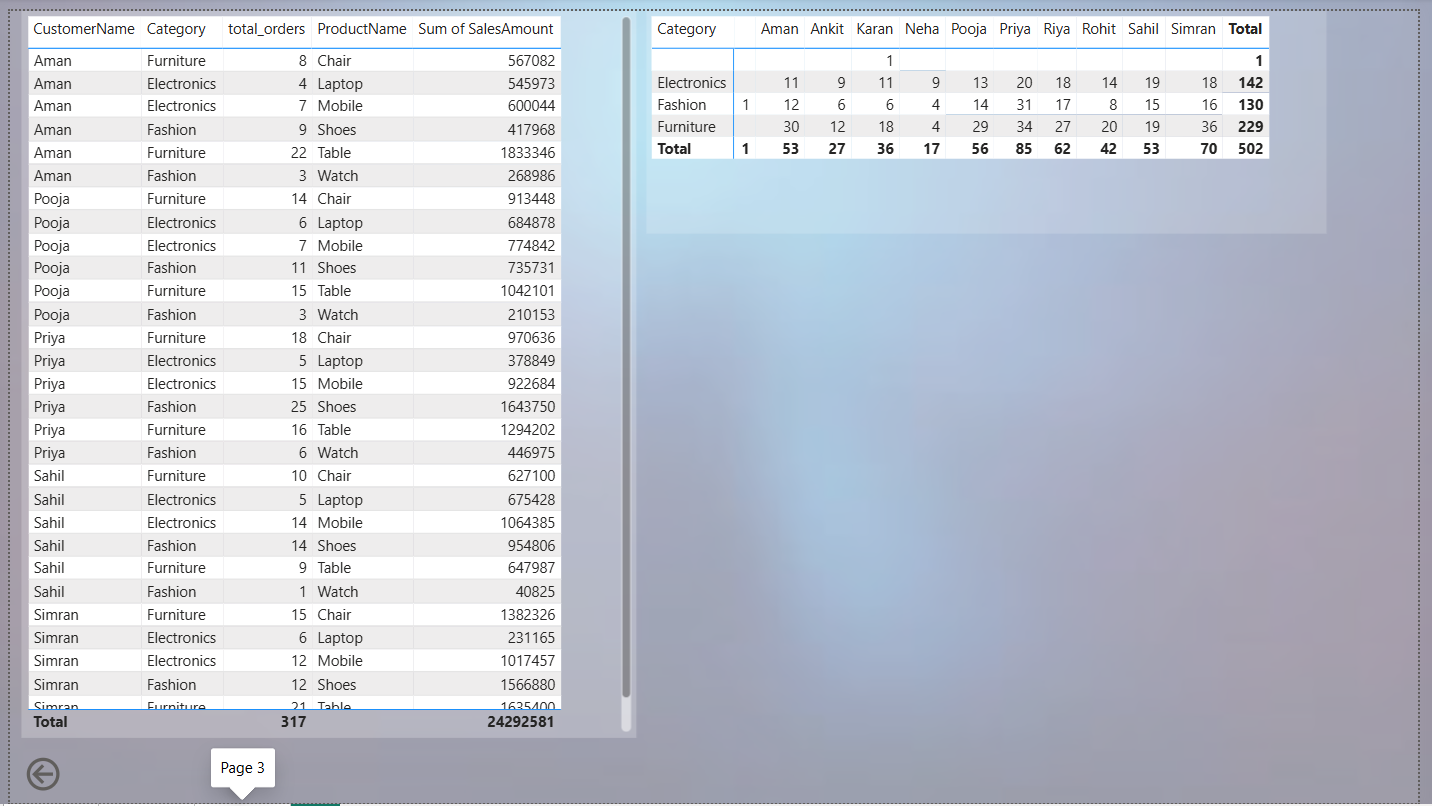

What the dashboard file says about the page in this screenshot:
{"tool":"powerbi","page":{"name":"Page 3","canvas":[1280,720],"ordinal":2},"visuals":[{"type":"tableEx","fields":{"Values":["Customers.CustomerName","Products.Category","Orders.total_orders","Products.ProductName","Sum(Orders.SalesAmount)"]},"box":[9.9,0,559.3,660.4],"z":0},{"type":"actionButton","box":[10.2,673.5,100,39.8],"z":1},{"type":"pivotTable","fields":{"Rows":["Products.Category"],"Columns":["Customers.CustomerName"],"Values":["Orders.total_orders"]},"box":[578.8,0,618.8,202.5],"z":2}]}

Visuals, with their boxes on the page's 1280x720 design canvas (x1, y1, x2, y2). These are canvas units, not pixel positions in the 1432x806 screenshot, which may show the page scaled, cropped or inside an application window:
tableEx - Customers.CustomerName x Products.Category: select_region(10, 0, 569, 660)
actionButton: select_region(10, 674, 110, 713)
pivotTable - Products.Category x Customers.CustomerName: select_region(579, 0, 1198, 202)
